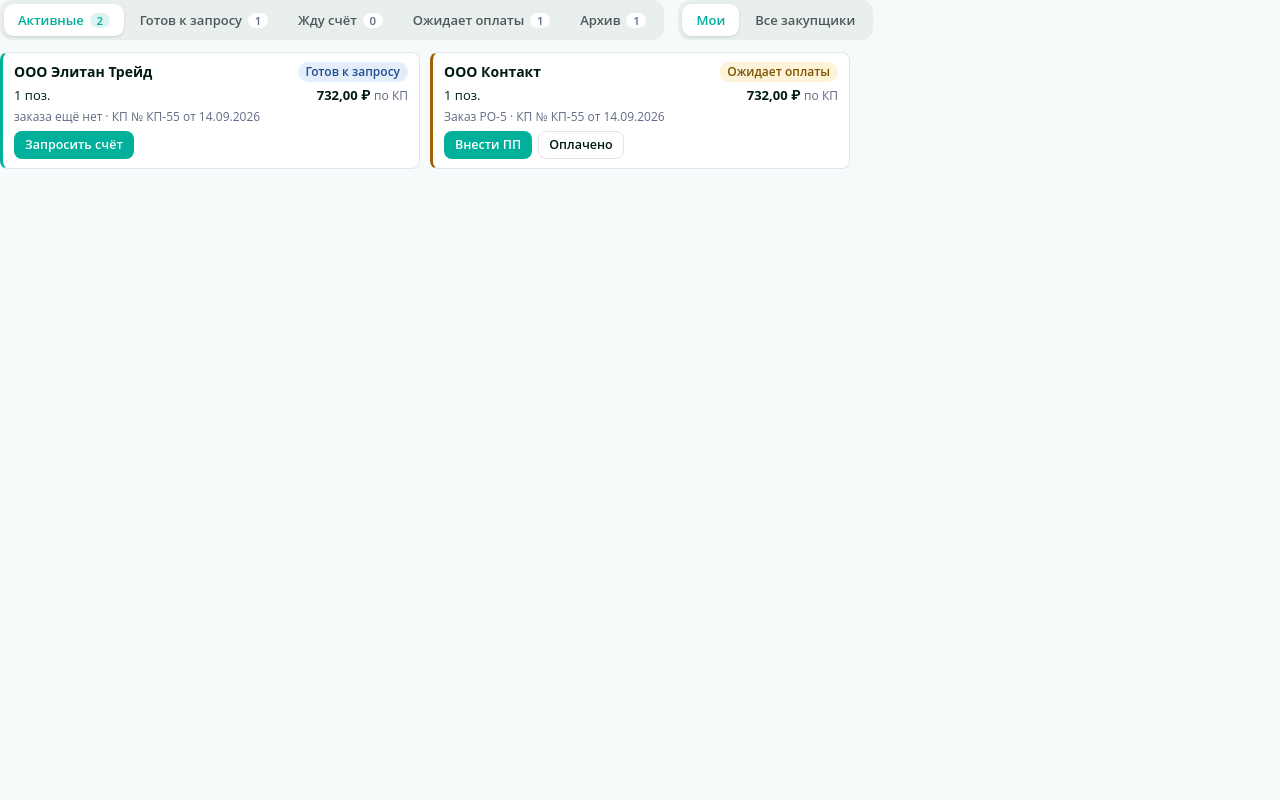
Scenario: shows the cards by stage, the archive apart, and opens a card as a window with its positions
Expected: the number of list items is 2, 0,52 -> 420,169; 430,52 -> 850,169
Expected: the button "Готов к запросу 1" is shown, 126,4 -> 282,36
Click the button "Архив 1".
click(613, 20)  # box 566,4 -> 660,36
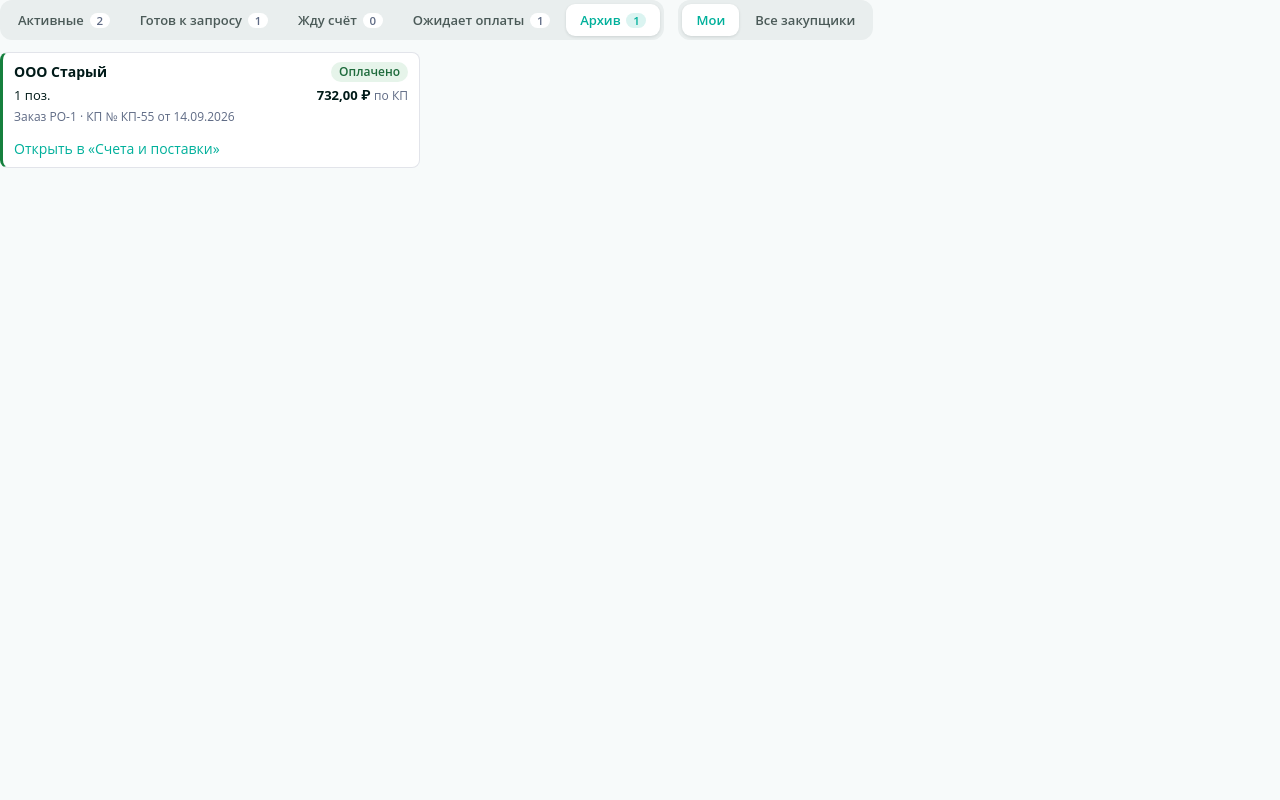
Result: the text "ООО Старый" is shown at 14,62 -> 107,81
Result: the button "Открыть в «Счета и поставки»" is shown at 14,131 -> 220,158
Click the button "Активные 2".
click(64, 20)  # box 4,4 -> 124,36
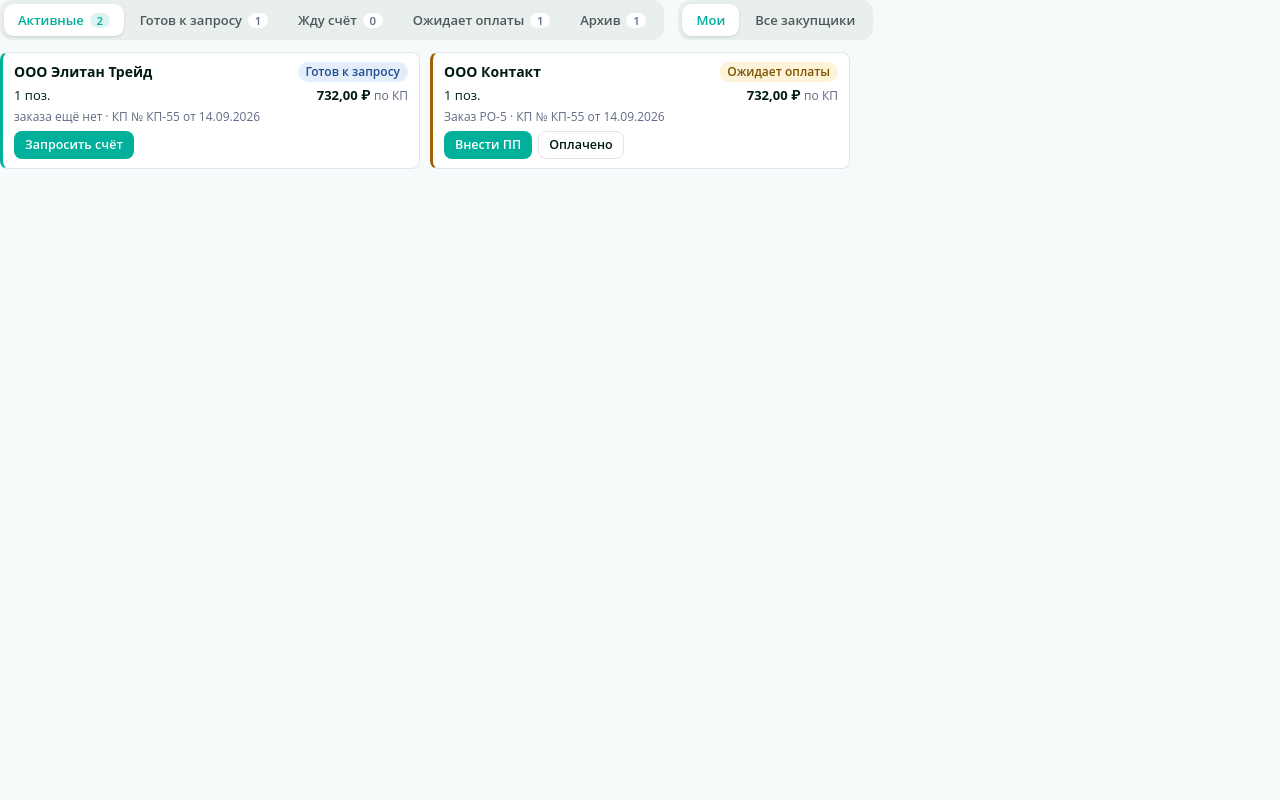
Click the button with aria-label "ООО Элитан Трейд · Готов к запросу · 1 поз.".
click(83, 72)  # box 3,53 -> 419,131
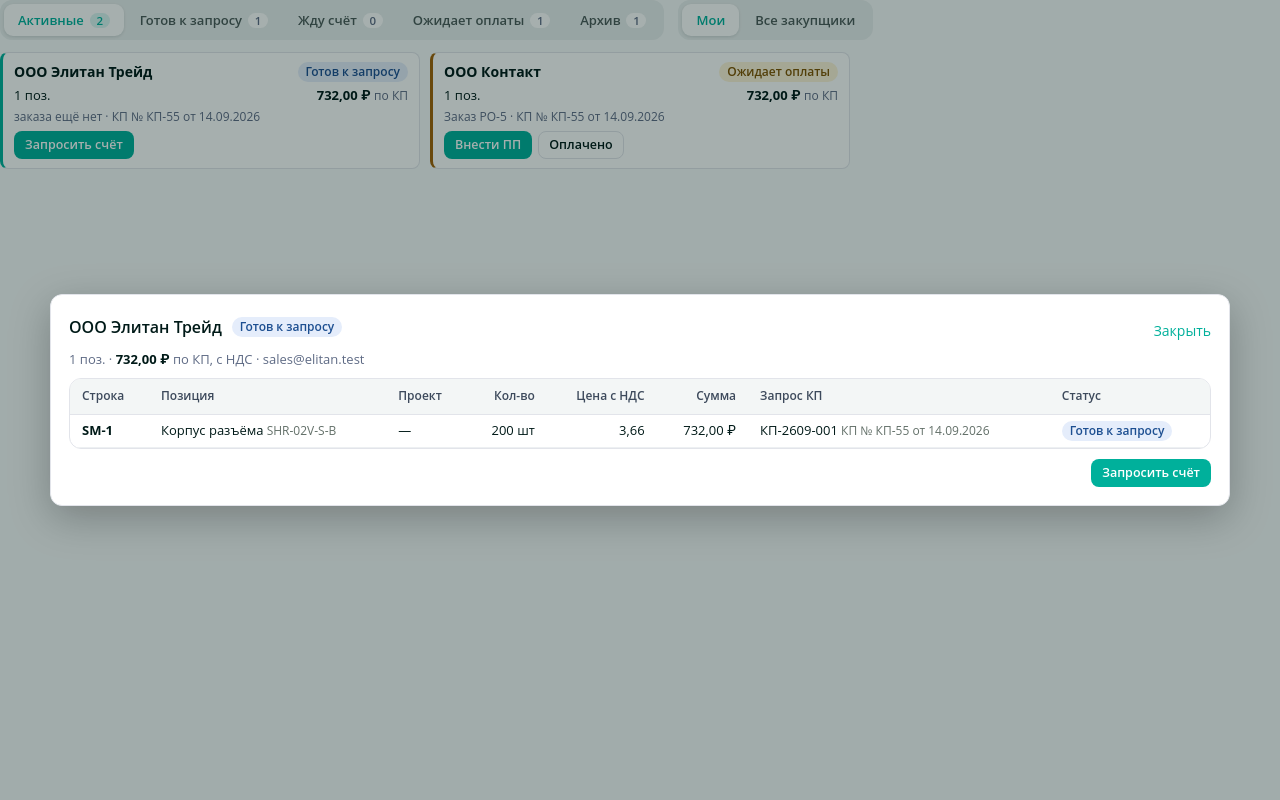
Result: the table named "Позиции" is shown at 70,379 -> 1210,448
Result: the text "SM-1" is shown at 82,421 -> 113,439
